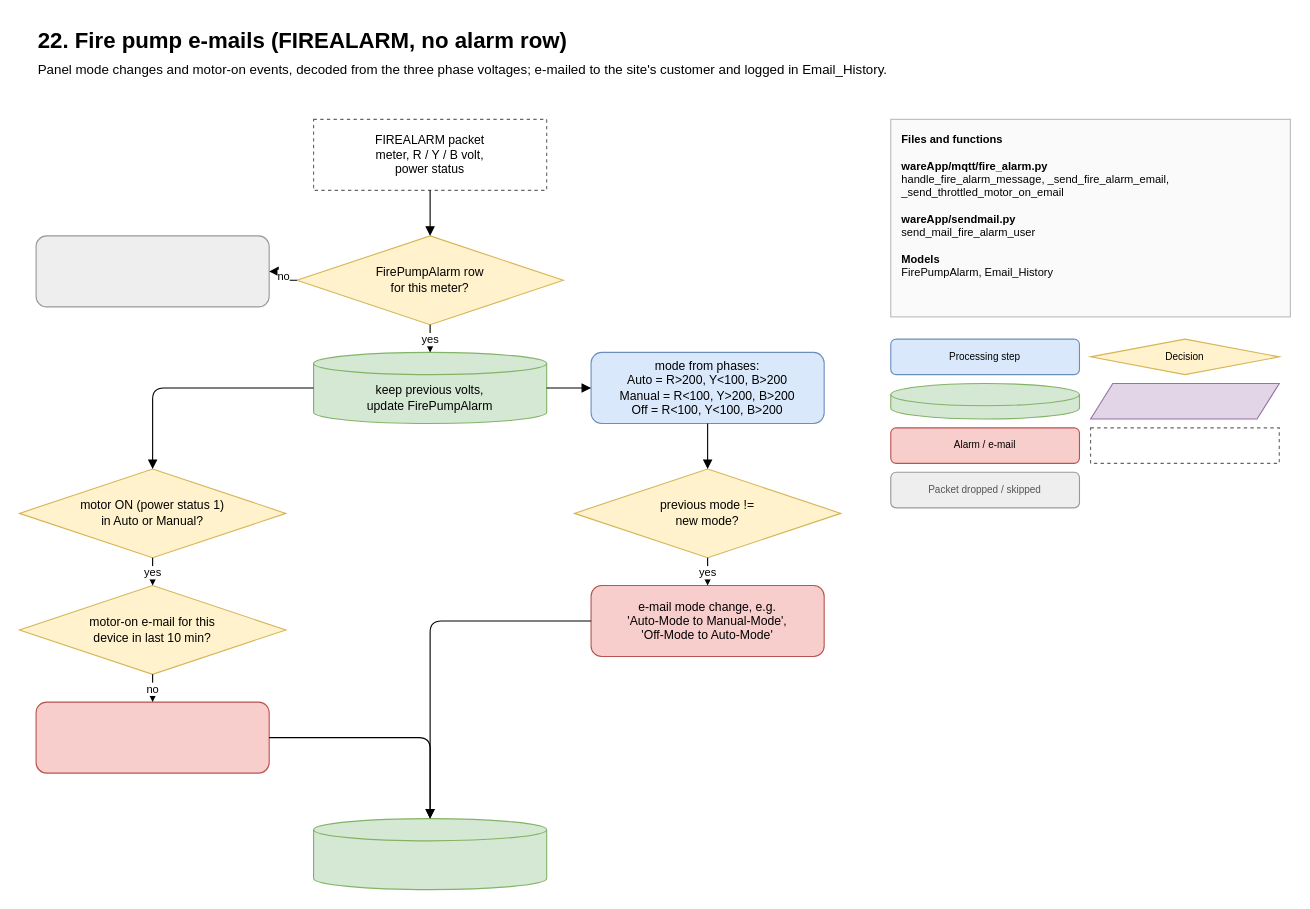
Image size: 1310x909. Some labels were removed from this diagram. Each missing label, with the centre of its shape:
Database table: the point at 984,400
e-mail 'Motor-On in Auto / Manual-Mode': the point at 152,737
Email_History (device, email_for, time): the point at 429,854
External: gateway, broker, timer: the point at 1184,445
RabbitMQ queue / MQTT topic: the point at 1184,400
skipped: the point at 152,271
